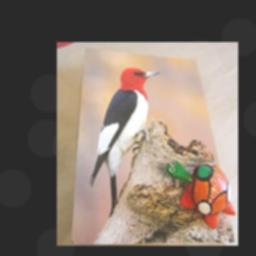Woodpecker: (89, 65, 159, 218)
